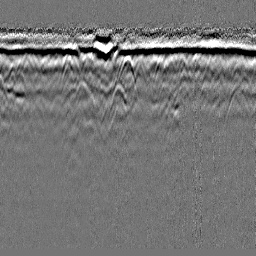cavity: (116, 53, 137, 91)
